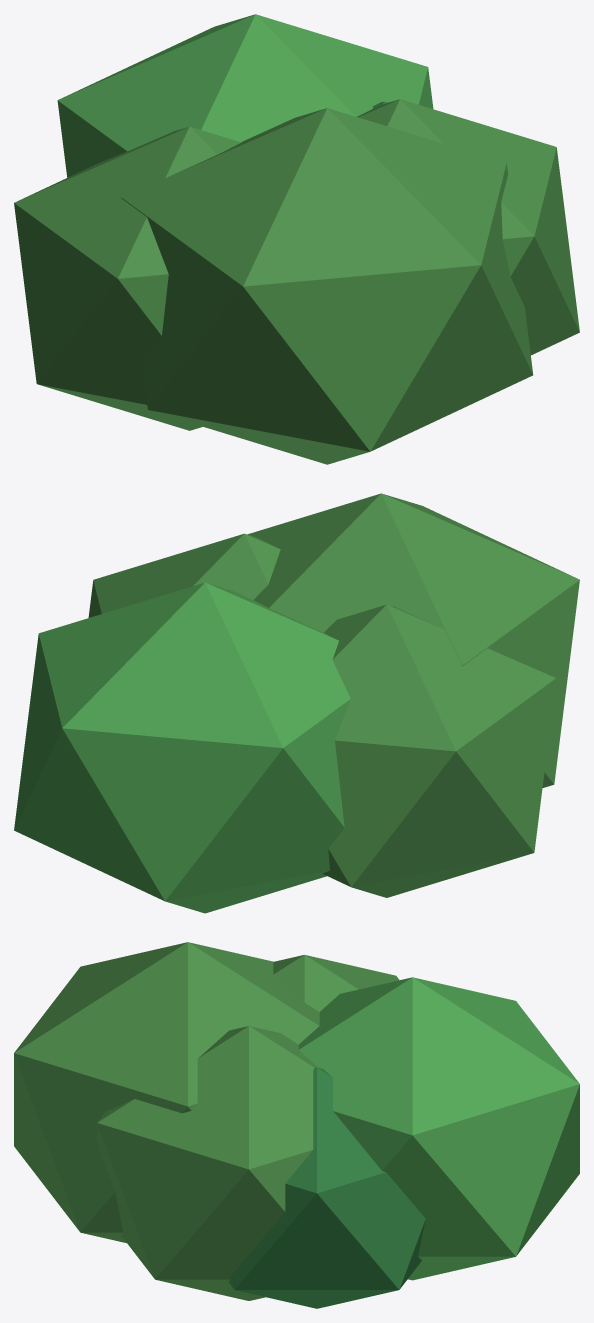
The model's file is bush_b.glb.
3 views of the same model, one above another, from view 1: azimuth 30°, elevation 25°; view 2: azimuth 150°, elevation 25°; view 3: azimuth 270°, elevation 25° (orthographic). The views are drawn at different scales.
Visible parts, largest first — view 1: bush_b; view 2: bush_b; view 3: bush_b.
Part boxes in pixels (x1,y1,x2,y2): bush_b: (14, 14, 579, 464); bush_b: (14, 493, 579, 913); bush_b: (14, 942, 579, 1308).
Size of the model in its own units: 1.75 by 1.21 by 1.97.
